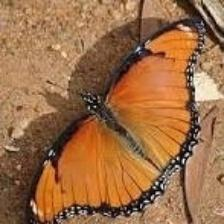butterfly: (33, 24, 200, 224)
